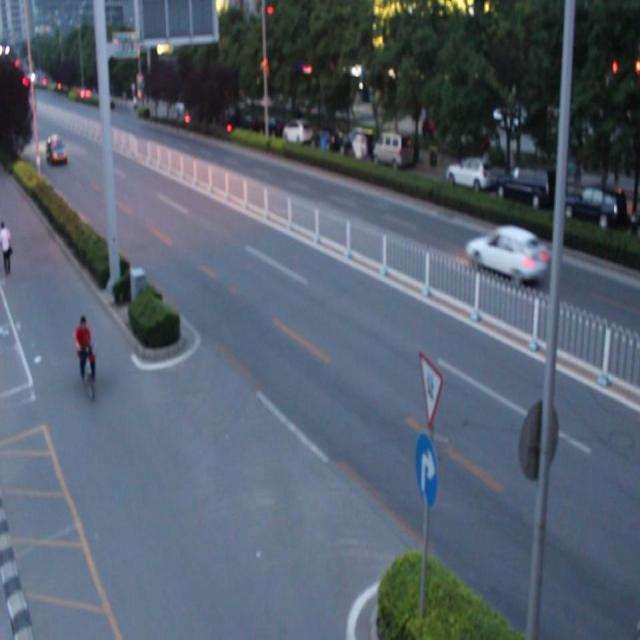car: (462, 223, 546, 282)
